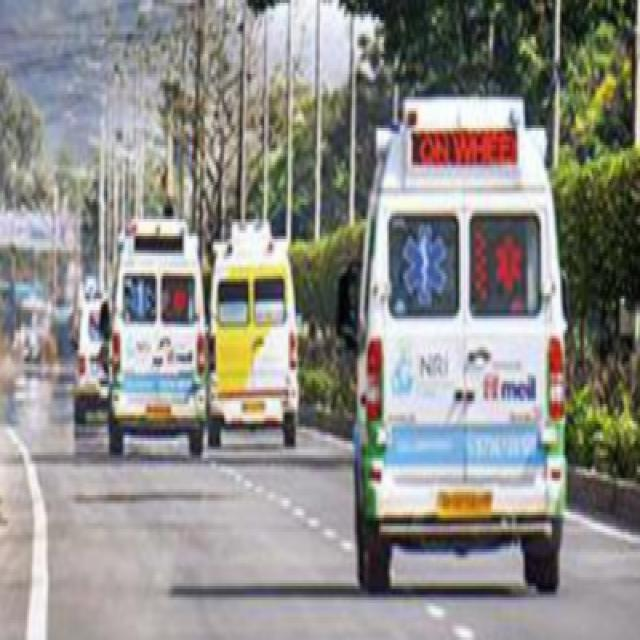emergency: (355, 98, 566, 590), (110, 220, 208, 457), (208, 224, 298, 447)
